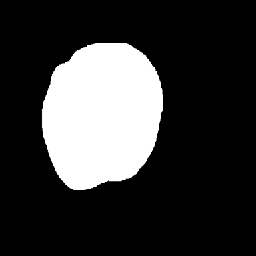mass: (45, 42, 159, 180)
